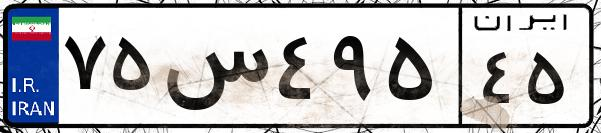4: (270, 28, 330, 110), (475, 38, 525, 113)
5: (385, 28, 445, 110), (525, 38, 570, 115), (110, 28, 158, 98)
7: (57, 26, 110, 100)
9: (330, 28, 385, 110)
س: (158, 20, 270, 120)
